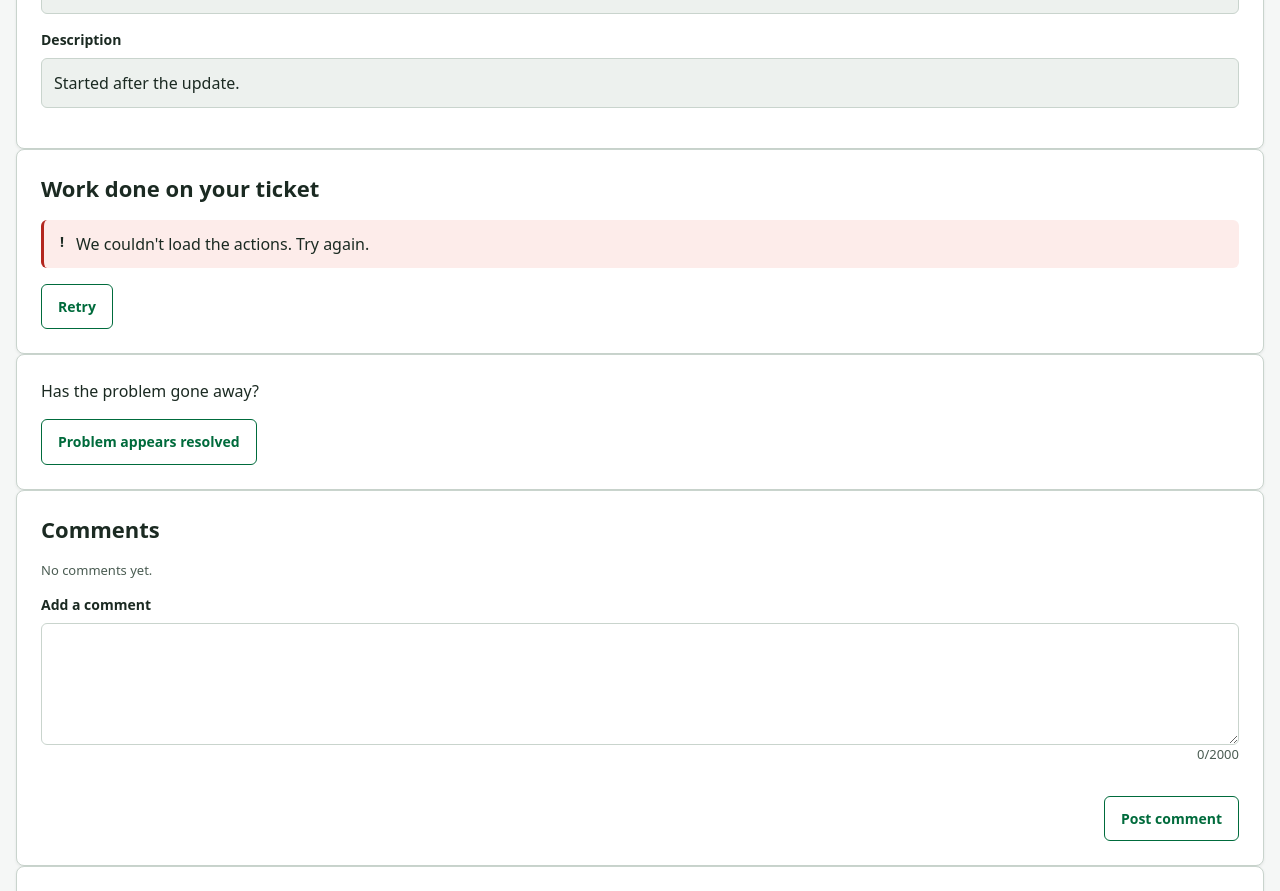
Test: UI-36 (AC-26) - appears resolved › cancelling the dialog sends nothing and returns focus to the button
(page scrolled)
Expected: the element with test id "comments-card" is shown, x1=16 y1=490 x2=1264 y2=866
Click the button with test id "btn-appears-resolved" at (149, 442), box x1=41 y1=419 x2=256 y2=465
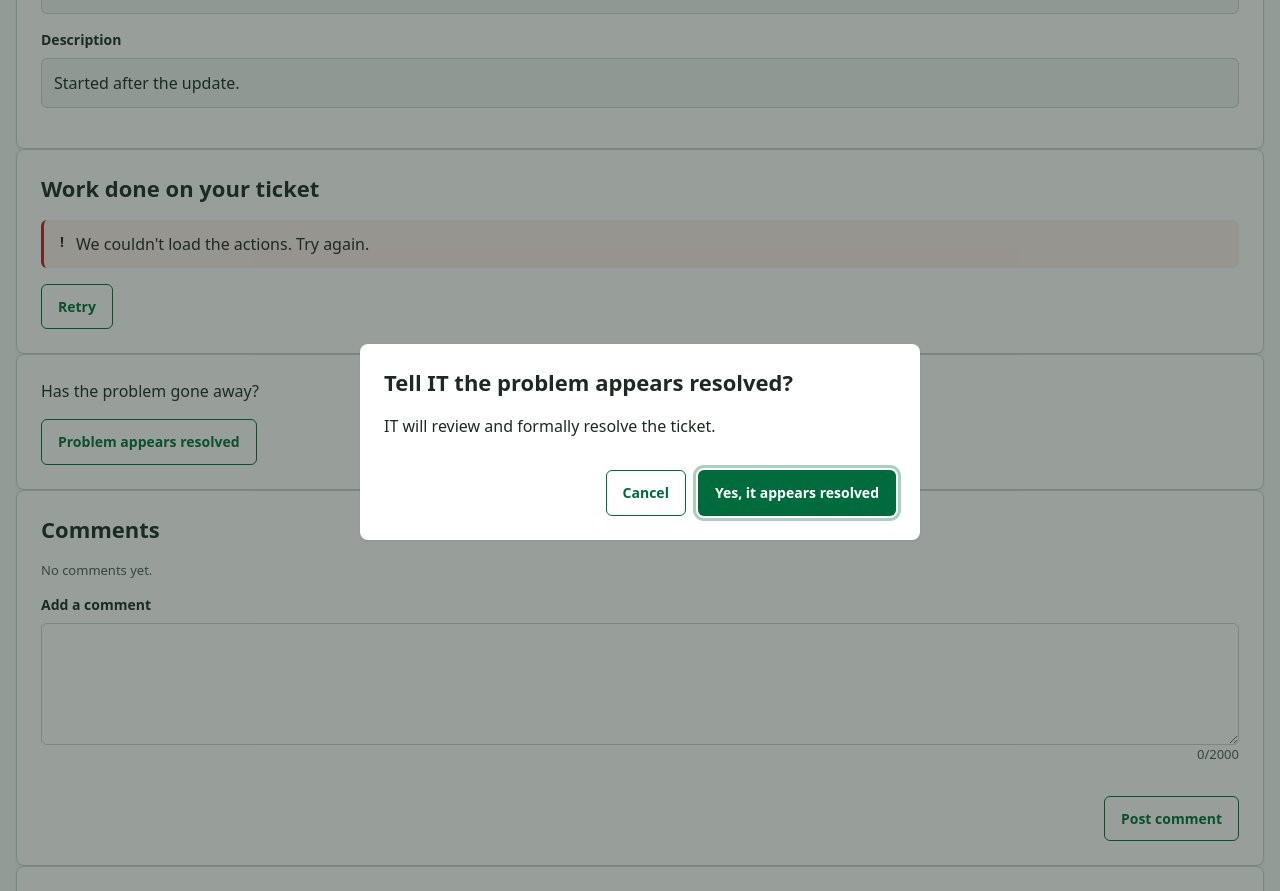
Click the button with test id "btn-dialog-cancel" at (646, 493), box x1=606 y1=470 x2=686 y2=516
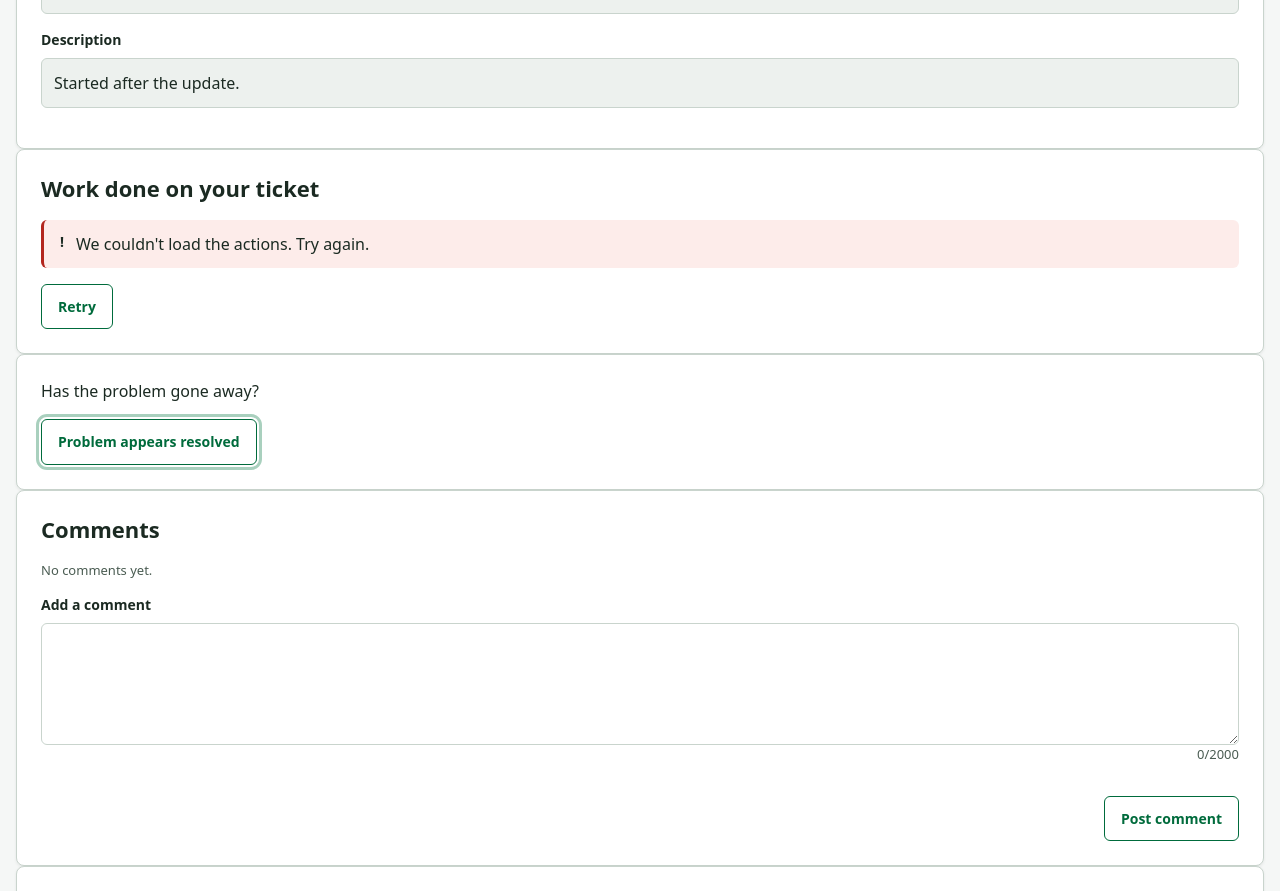
Expected: the dialog with test id "confirm-dialog" is gone
